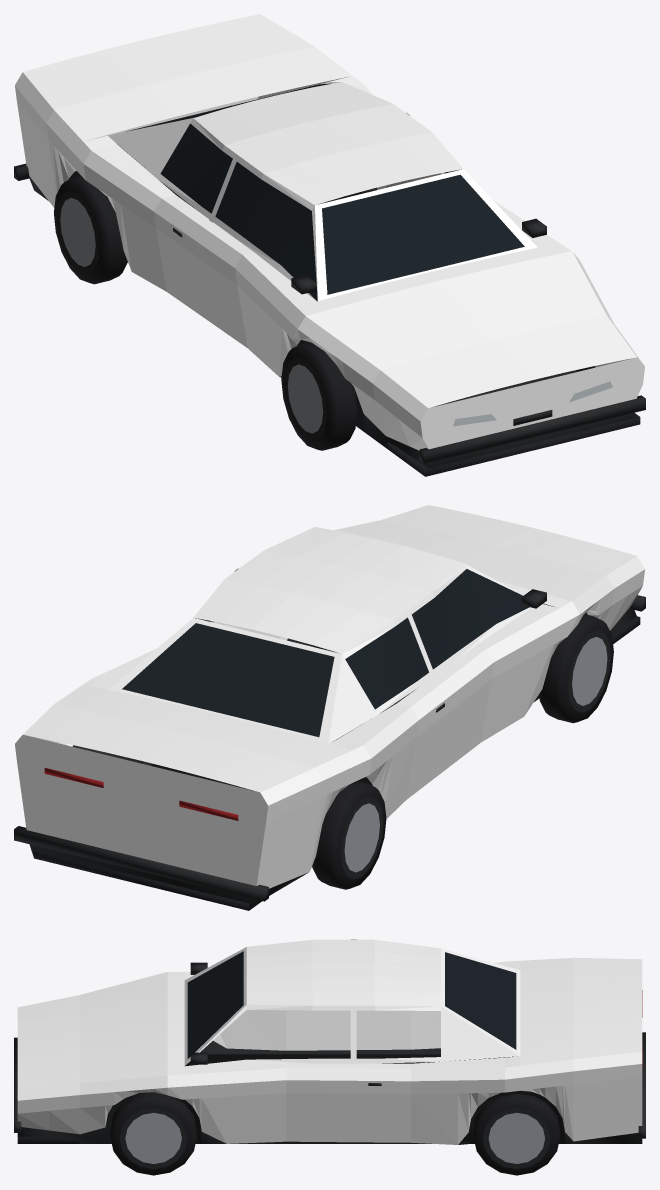
Rendered from ostwerk_travessa.glb.
3 views of the same model, one above another, from view 1: azimuth 30°, elevation 25°; view 2: azimuth 150°, elevation 25°; view 3: azimuth 270°, elevation 25° (orthographic). The views are drawn at different scales.
Parts seen in each view (by area): view 1: Body_Paint, Body_Details, Mount_FrontLeft_Wheel_Details, Mount_RearLeft_Wheel_Details; view 2: Body_Paint, Body_Details, Mount_RearLeft_Wheel_Details, Mount_FrontLeft_Wheel_Details; view 3: Body_Paint, Body_Details, Mount_FrontRight_Wheel_Details, Mount_RearRight_Wheel_Details.
Boxes of the visible parts, box(x1,y1,x2,y2) form: Body_Paint: box(15, 14, 644, 450); Body_Details: box(14, 83, 645, 476); Mount_FrontLeft_Wheel_Details: box(281, 342, 357, 450); Mount_RearLeft_Wheel_Details: box(54, 176, 127, 284); Body_Paint: box(15, 505, 644, 888); Body_Details: box(14, 569, 645, 910); Mount_RearLeft_Wheel_Details: box(312, 781, 386, 889); Mount_FrontLeft_Wheel_Details: box(539, 614, 613, 723); Body_Paint: box(17, 939, 642, 1144); Body_Details: box(14, 951, 645, 1144); Mount_FrontRight_Wheel_Details: box(110, 1092, 197, 1175); Mount_RearRight_Wheel_Details: box(473, 1093, 560, 1175).
Bounding box in the file's own units: 2.01 × 1.27 × 4.78.
2 materials, 1 textured.
